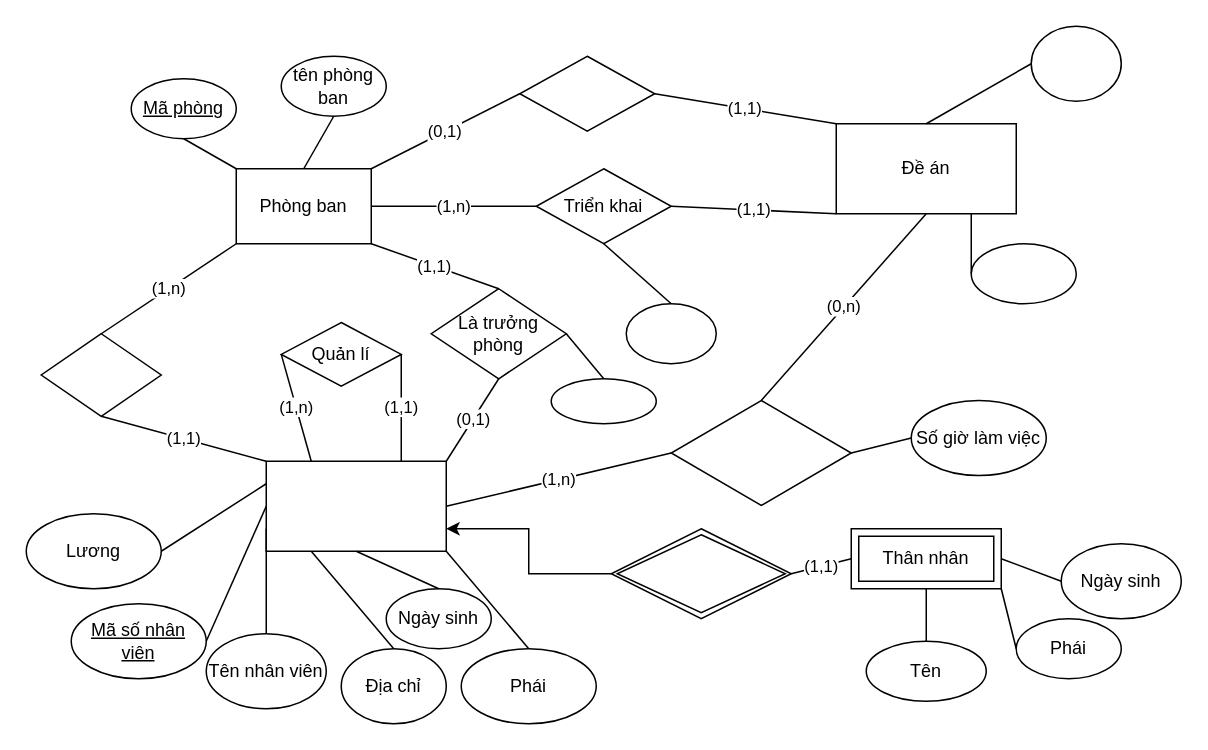
Some shapes in this 1208 by 750 pixel diagram are drawn without their labels. Each missing label, with the centre of its shape:
"Chủ trì" goes at (586,93).
"Là thân nhân" goes at (700,573).
"Làm việc" goes at (100,374).
"Mã đề án" goes at (1075,63).
"Ngày nhận chức" goes at (603,400).
"Nhân viên" goes at (355,505).
"Tham gia" goes at (760,452).
"Tên đề án" goes at (1023,273).
"Địa điểm" goes at (670,333).
